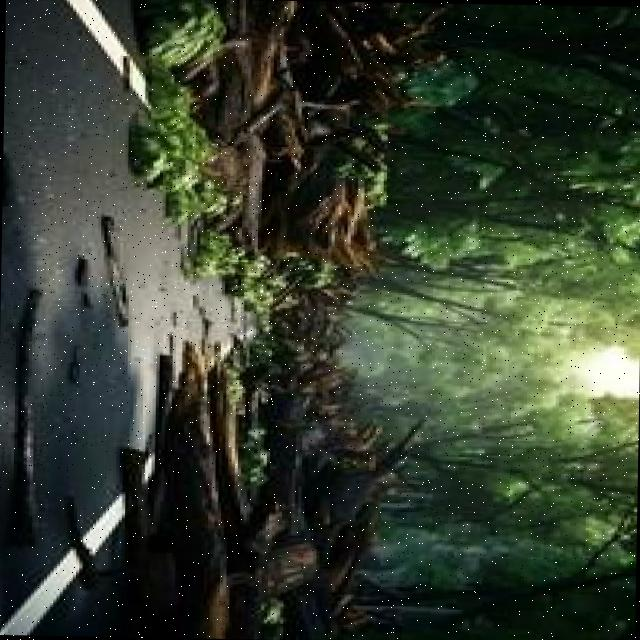road collapse: (0, 0, 636, 639)
